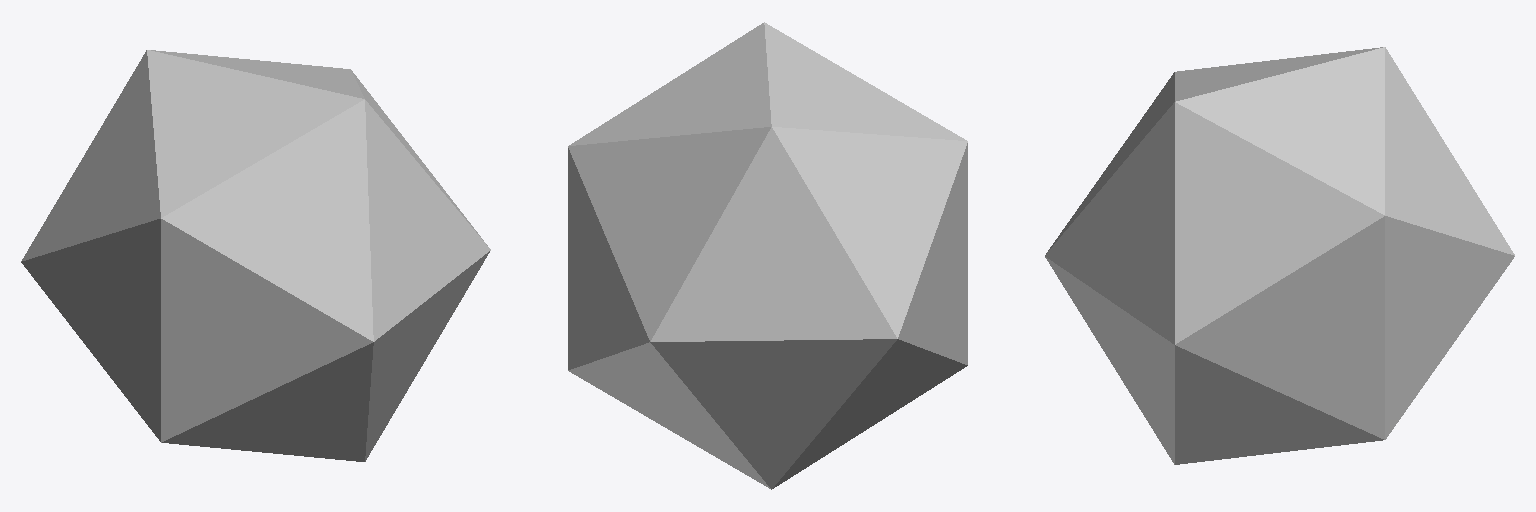
File: grape_parts001.obj
The picture shows the model from 3 angles: view 1: azimuth 30°, elevation 25°; view 2: azimuth 150°, elevation 25°; view 3: azimuth 270°, elevation 25°; orthographic projection.
Visible parts, largest first — view 1: pPlatonic2; view 2: pPlatonic2; view 3: pPlatonic2.
Part boxes in pixels (left/top/right/bottom): pPlatonic2: left=21, top=50, right=490, bottom=461; pPlatonic2: left=568, top=22, right=967, bottom=489; pPlatonic2: left=1045, top=47, right=1514, bottom=464.
Bounding box in the file's own units: 0.9228 × 0.8776 × 1.03.